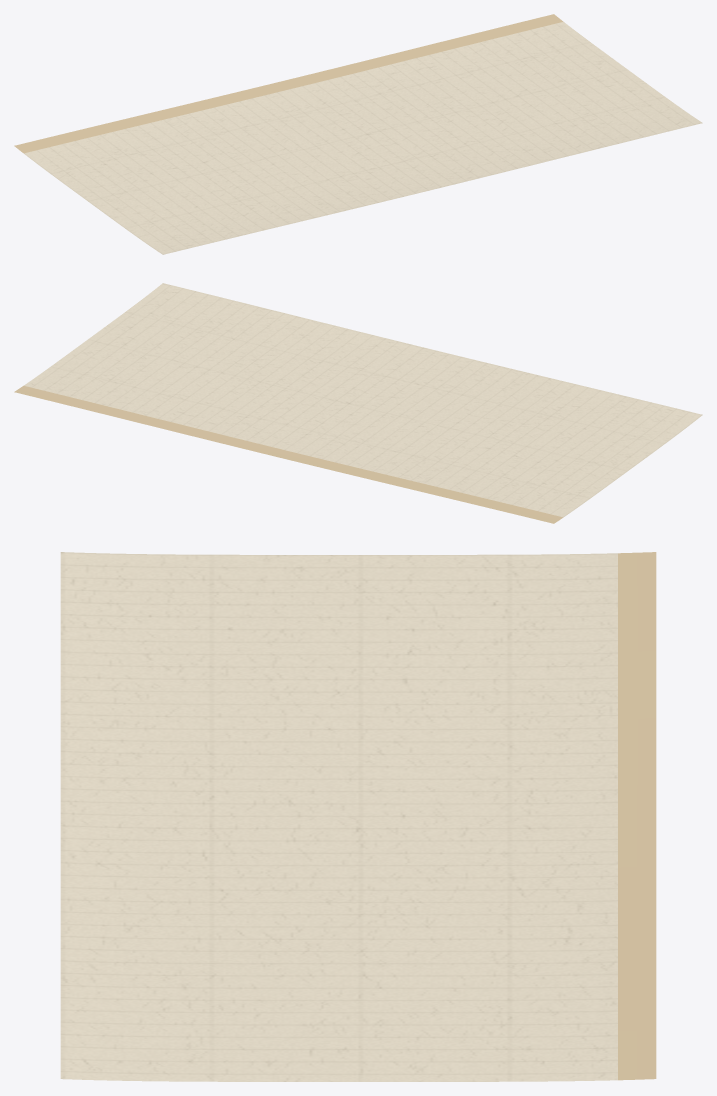
Rendered from rolling_paper.glb.
The picture shows the model from 3 angles, top to bottom: view 1: azimuth 30°, elevation 25°; view 2: azimuth 150°, elevation 25°; view 3: azimuth 270°, elevation 25°; orthographic projection. The views are drawn at different scales.
Parts seen in each view (by area): view 1: Paper; view 2: Paper; view 3: Paper.
Part boxes in pixels (<box>): Paper: <box>14,14,702,254</box>; Paper: <box>14,283,702,523</box>; Paper: <box>60,552,656,1081</box>.
Size of the model in its own units: 0.09 by 0.00035 by 0.043.
Materials: 2 (1 with a texture image).
